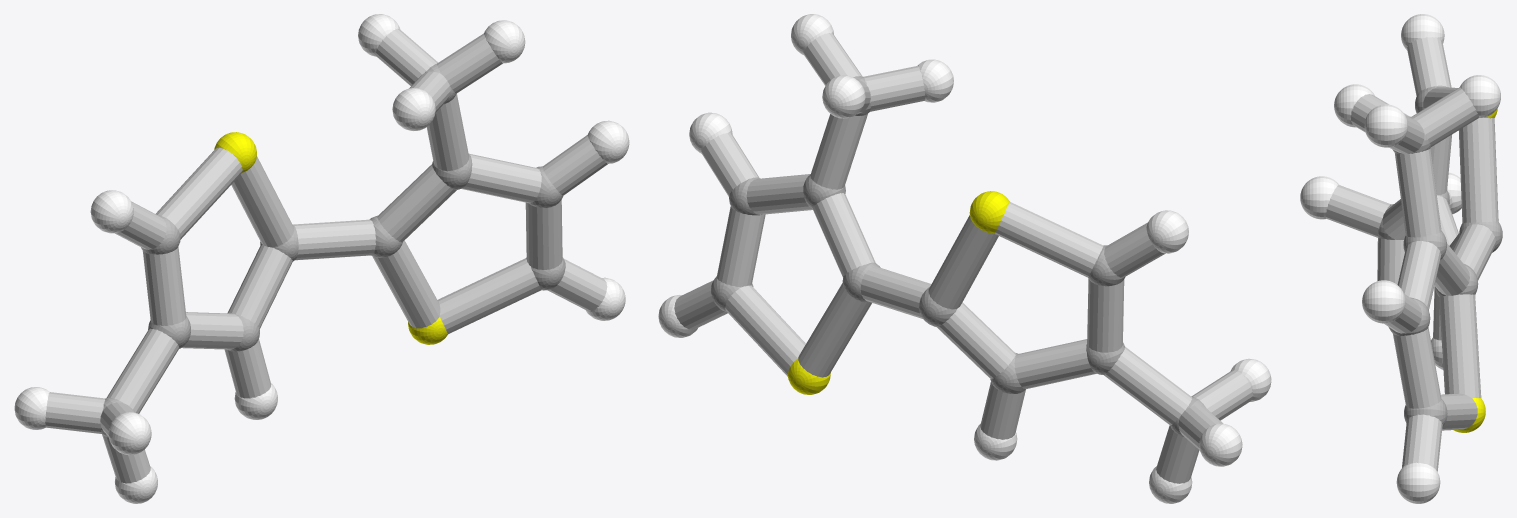
The model's file is color.glb.
The picture shows the model from 3 angles, left to right: view 1: azimuth 30°, elevation 25°; view 2: azimuth 150°, elevation 25°; view 3: azimuth 270°, elevation 25°; orthographic projection.
Parts seen in each view (by area): view 1: grp7965, grp3621, grp1, grp7241; view 2: grp7965, grp3621, grp1, grp7241; view 3: grp7965, grp3621, grp1, grp7241.
Boxes of the visible parts, <box> form: grp7965: <box>45,28,607,483</box>; grp3621: <box>14,14,629,503</box>; grp1: <box>101,64,565,437</box>; grp7241: <box>214,132,447,344</box>; grp7965: <box>674,33,1253,483</box>; grp3621: <box>658,14,1271,503</box>; grp1: <box>711,76,1206,436</box>; grp7241: <box>787,191,1009,394</box>; grp7965: <box>1325,37,1498,471</box>; grp3621: <box>1300,14,1500,503</box>; grp1: <box>1378,85,1502,426</box>; grp7241: <box>1453,108,1497,432</box>.
Bounding box in the file's own units: 9.45 × 6.02 × 2.79.
